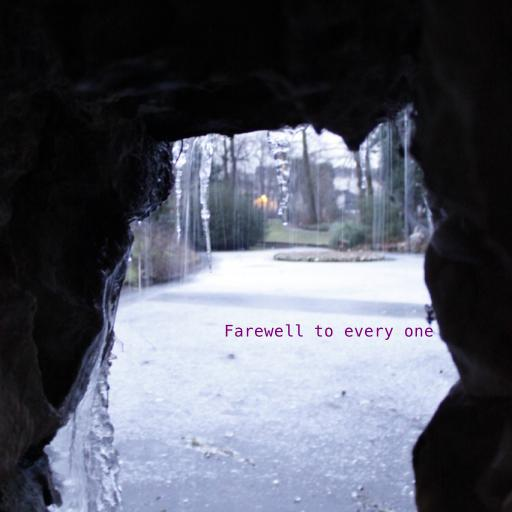Menlo: (224, 324, 434, 340)
